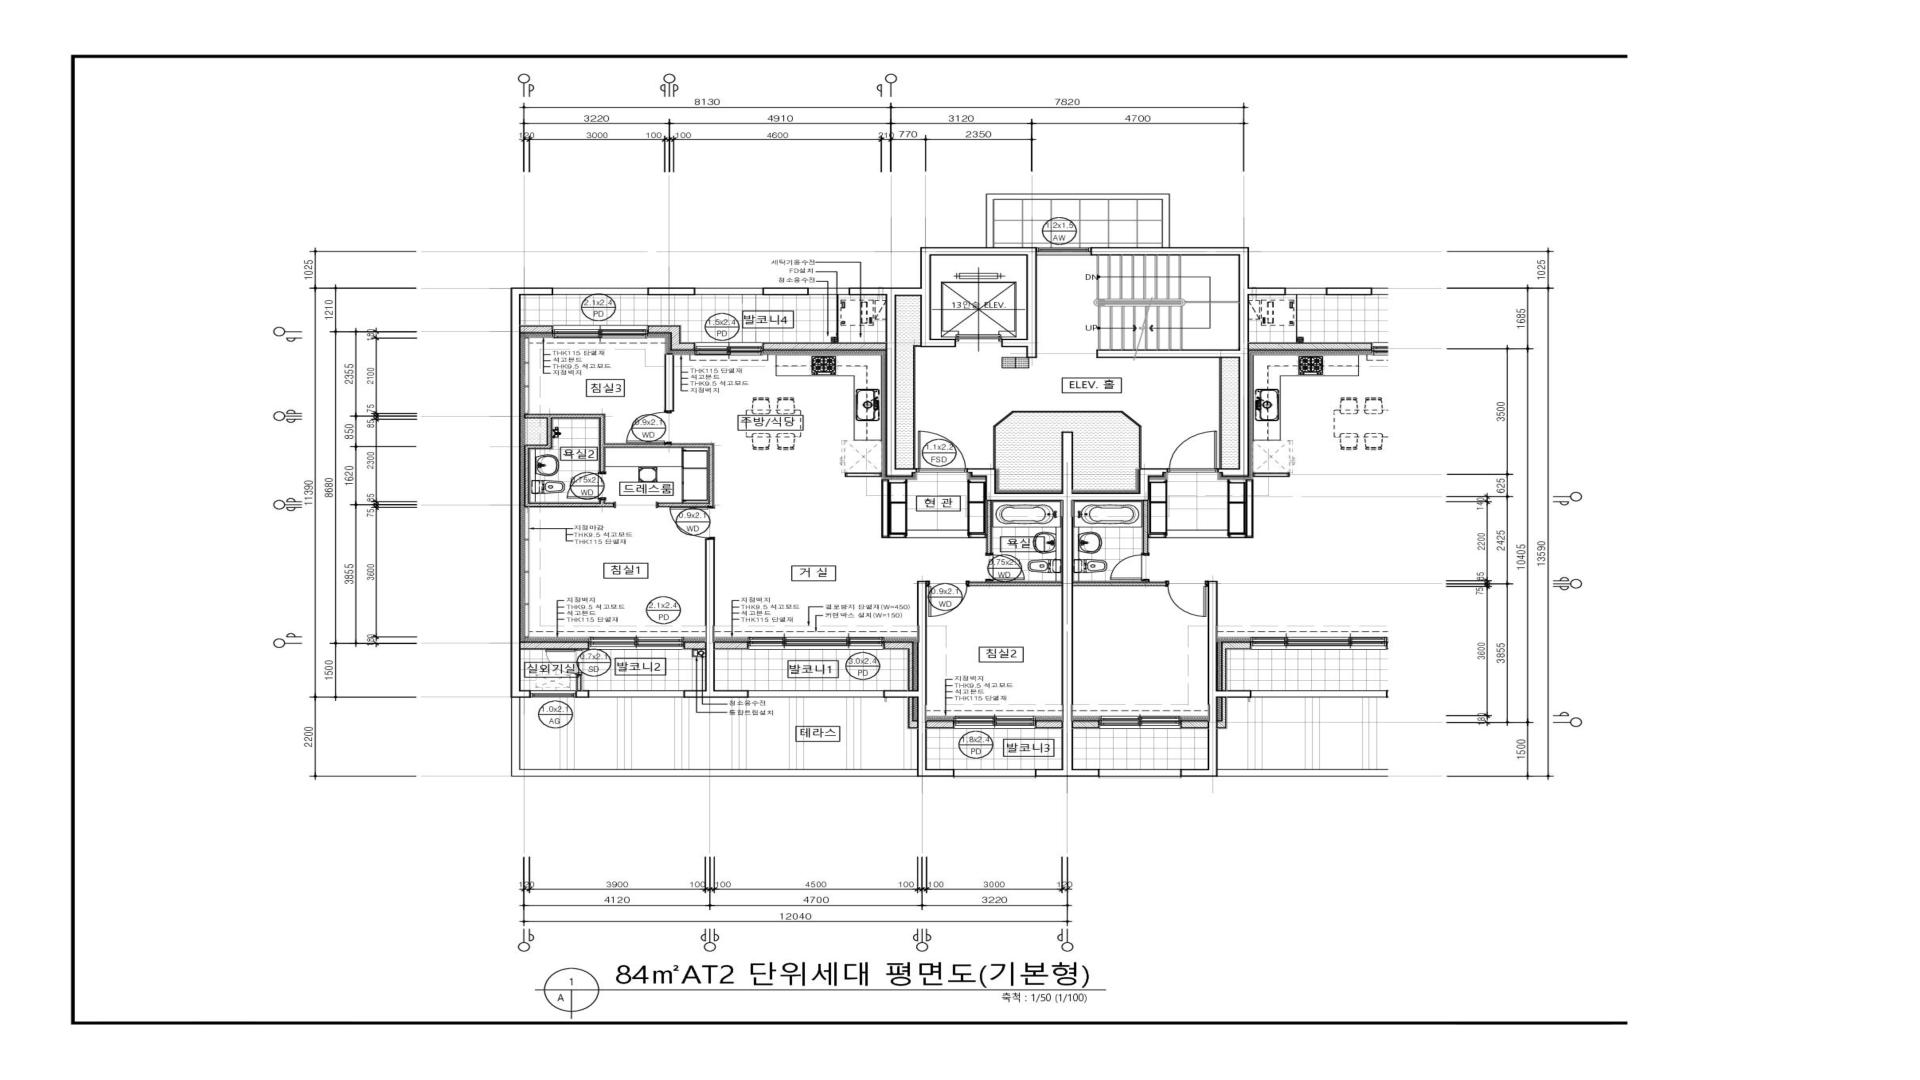door: (916, 430, 968, 472), (926, 580, 971, 617), (626, 410, 673, 444), (670, 506, 715, 538), (985, 553, 1025, 580), (567, 472, 605, 500), (546, 649, 583, 675)
wall: (968, 431, 1167, 777), (1091, 247, 1286, 476), (848, 247, 1036, 476), (510, 287, 554, 698), (884, 580, 953, 777), (683, 538, 749, 698), (993, 410, 1142, 468), (881, 480, 907, 538), (884, 642, 914, 691), (649, 326, 694, 351), (762, 343, 886, 351), (914, 345, 920, 468), (524, 500, 613, 508), (530, 418, 551, 448), (521, 641, 588, 650), (665, 353, 674, 410), (969, 580, 1062, 585), (1218, 357, 1222, 468), (604, 443, 713, 447), (524, 444, 530, 502), (647, 287, 695, 295), (762, 287, 808, 295), (524, 414, 604, 418), (708, 447, 713, 506), (715, 641, 748, 649), (600, 418, 604, 472), (521, 327, 553, 334), (1035, 720, 1062, 728), (927, 720, 953, 728), (658, 502, 709, 506), (845, 472, 882, 477), (683, 642, 705, 650), (988, 501, 990, 553), (968, 533, 986, 538), (576, 691, 589, 698), (576, 675, 582, 691)
window: (748, 637, 884, 650), (553, 326, 649, 339), (589, 637, 684, 650), (953, 716, 1035, 729), (749, 691, 884, 698), (695, 342, 762, 355), (553, 287, 647, 295), (955, 769, 1035, 778), (589, 691, 683, 698), (695, 287, 762, 295), (1036, 248, 1091, 256), (808, 287, 848, 295), (531, 691, 576, 698)
